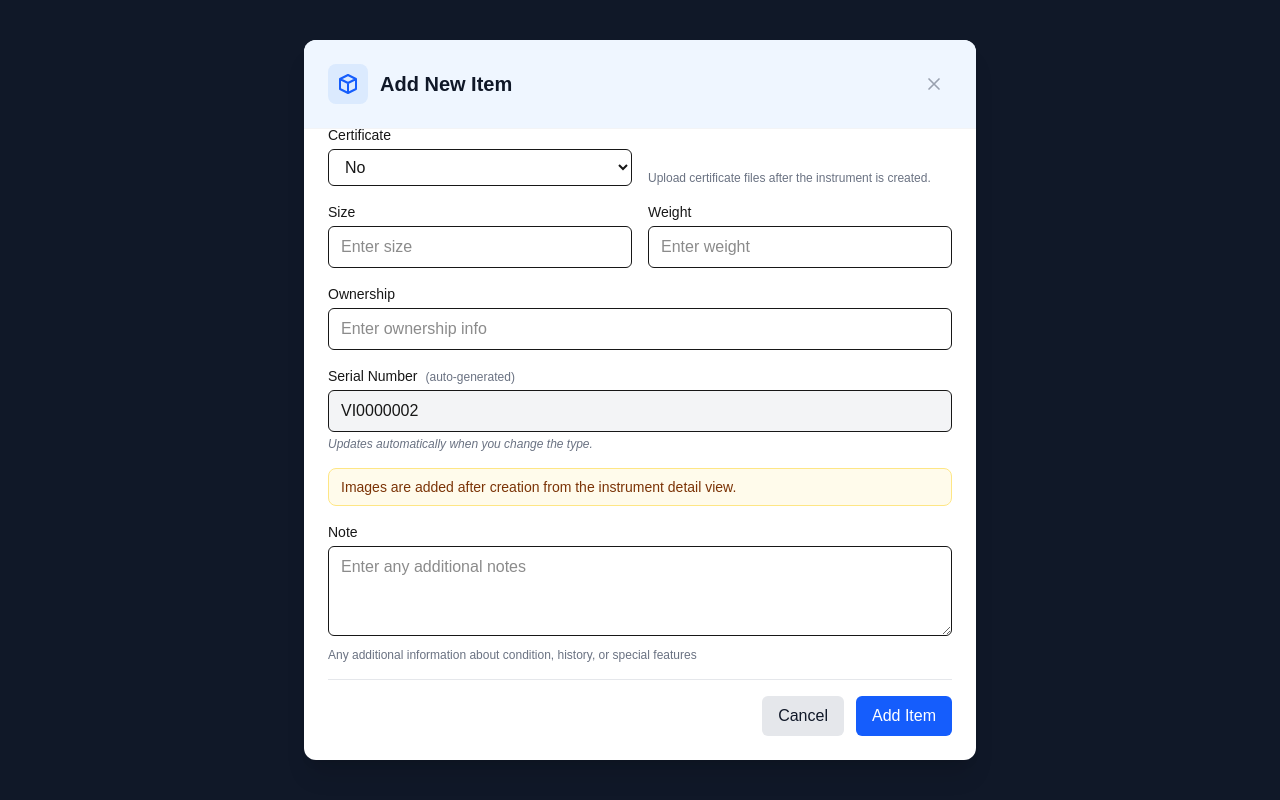
Scenario: ItemForm › does not show success UI when create returns no instrument (false success)
(page scrolled)
Step 1. Click the button "Add Item" → (904, 716), box x1=856 y1=696 x2=952 y2=736
(page scrolled)
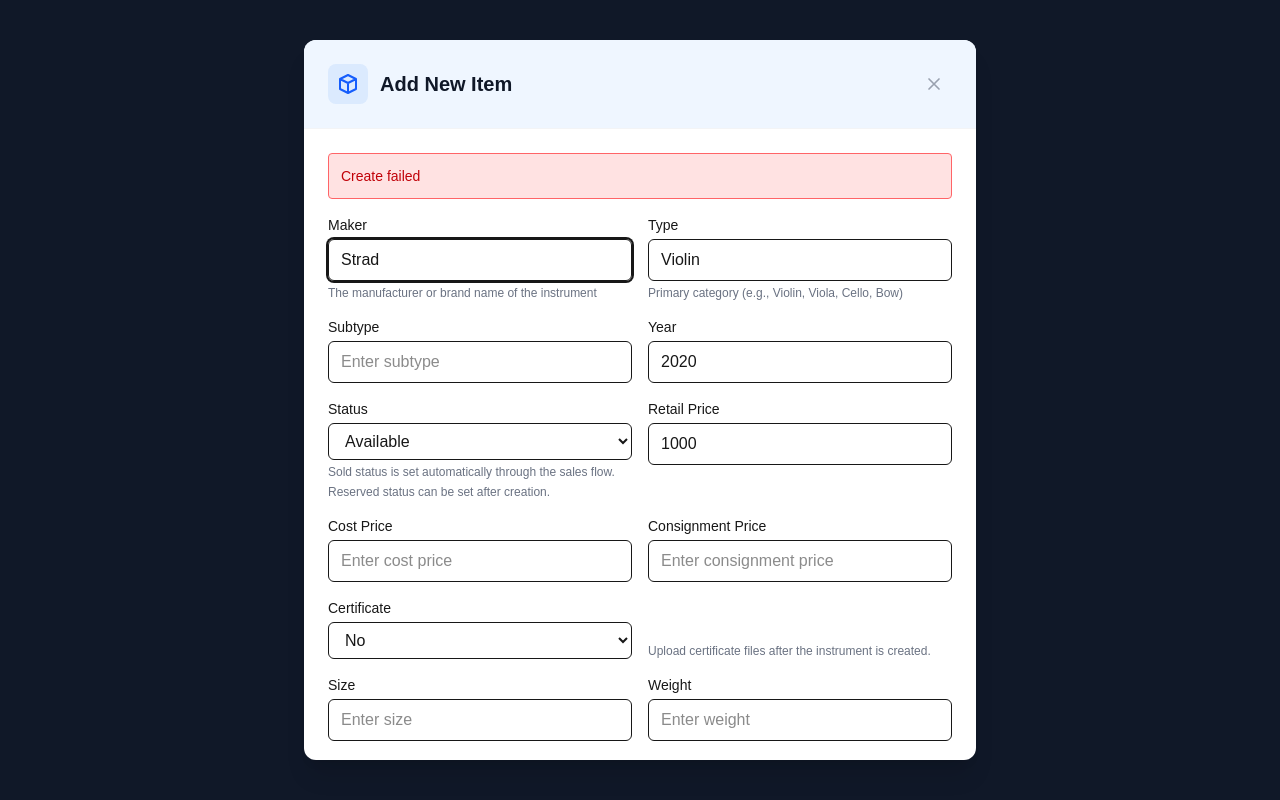
Result: the text "Create failed" is shown at x1=341 y1=168 x2=420 y2=184
